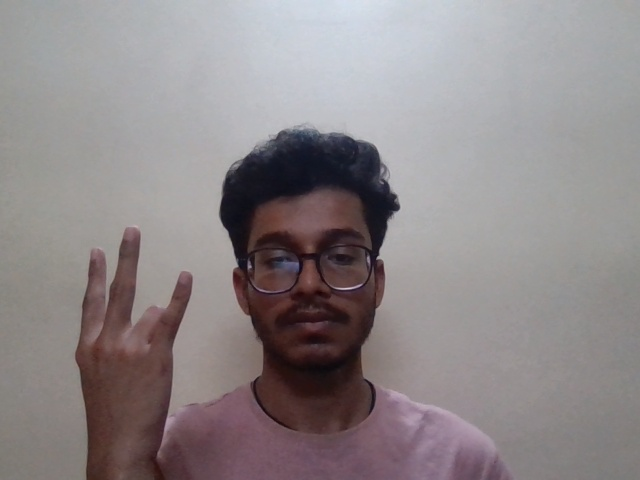why: (82, 227, 210, 394)
